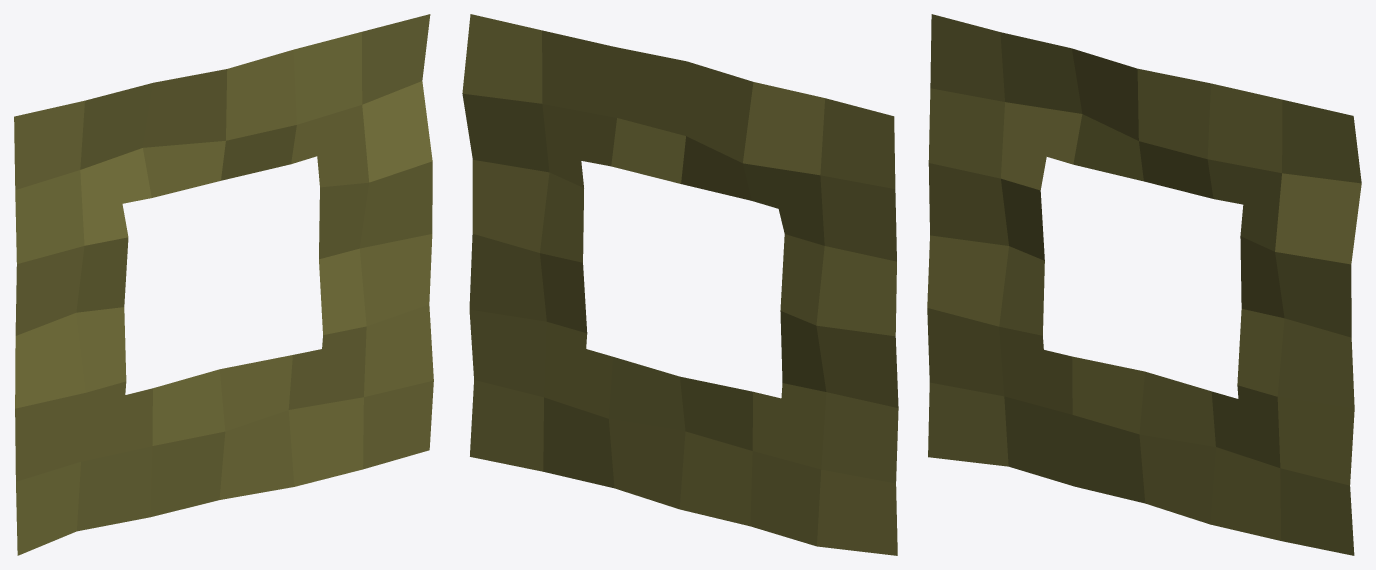
The model's file is enchantedforest_moss_window_1.fbx.
3 views of the same model, side by side, from view 1: azimuth 30°, elevation 25°; view 2: azimuth 150°, elevation 25°; view 3: azimuth 330°, elevation 25° (orthographic).
Parts seen in each view (by area): view 1: Plane.005; view 2: Plane.005; view 3: Plane.005.
Boxes of the visible parts, x1,y1,x2,y2 form: Plane.005: (14,14,433,555); Plane.005: (462,14,898,555); Plane.005: (927,14,1361,555).
Bounding box in the file's own units: 3.01 × 3 × 0.2203.
